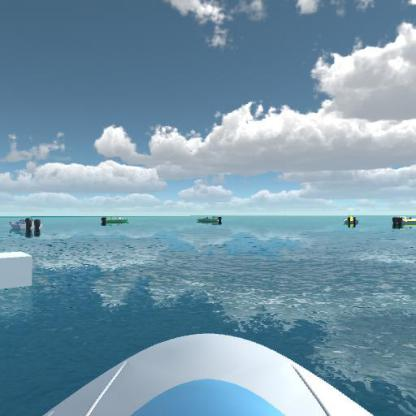usv0: (100, 212, 132, 229), (194, 212, 225, 226)
usv1: (6, 216, 49, 238)
usv2: (390, 210, 415, 232), (341, 214, 363, 228)
